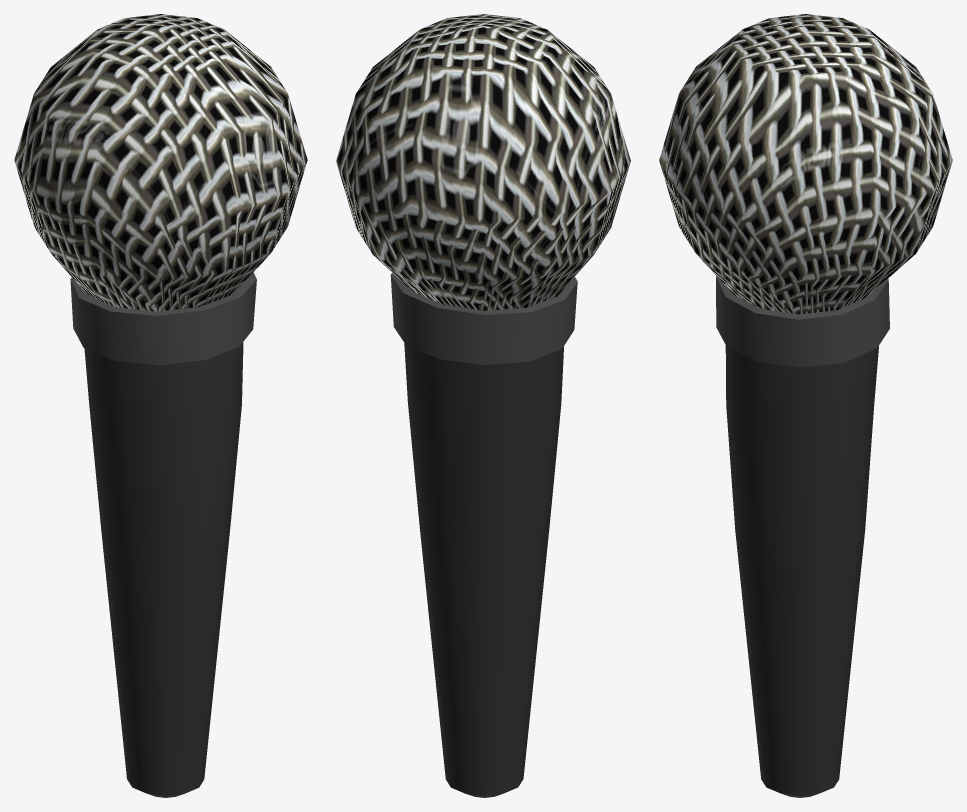
The model's file is Mike.fbx.
3 renders of one model, left to right at view 1: azimuth 30°, elevation 25°; view 2: azimuth 150°, elevation 25°; view 3: azimuth 270°, elevation 25°, orthographic.
Visible parts, largest first — view 1: Mike; view 2: Mike; view 3: Mike.
Part boxes in pixels (x1=…): Mike: x1=14, y1=14, x2=307, y2=797; Mike: x1=336, y1=14, x2=630, y2=797; Mike: x1=659, y1=14, x2=952, y2=797.
Size of the model in its own units: 1.6 by 4.58 by 1.6.
Materials: 1 (1 with a texture image).
